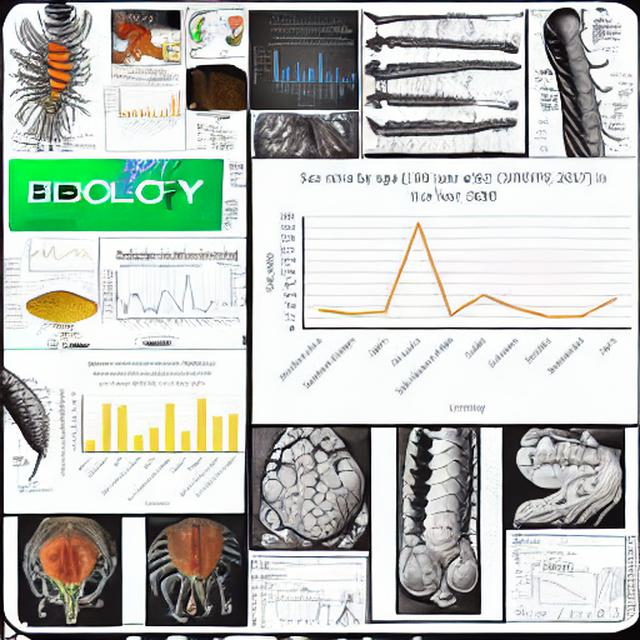Graph: (255, 162, 636, 417), (57, 367, 243, 509), (99, 263, 218, 332), (252, 34, 358, 110), (105, 81, 184, 128), (22, 235, 96, 279), (533, 570, 592, 610)
